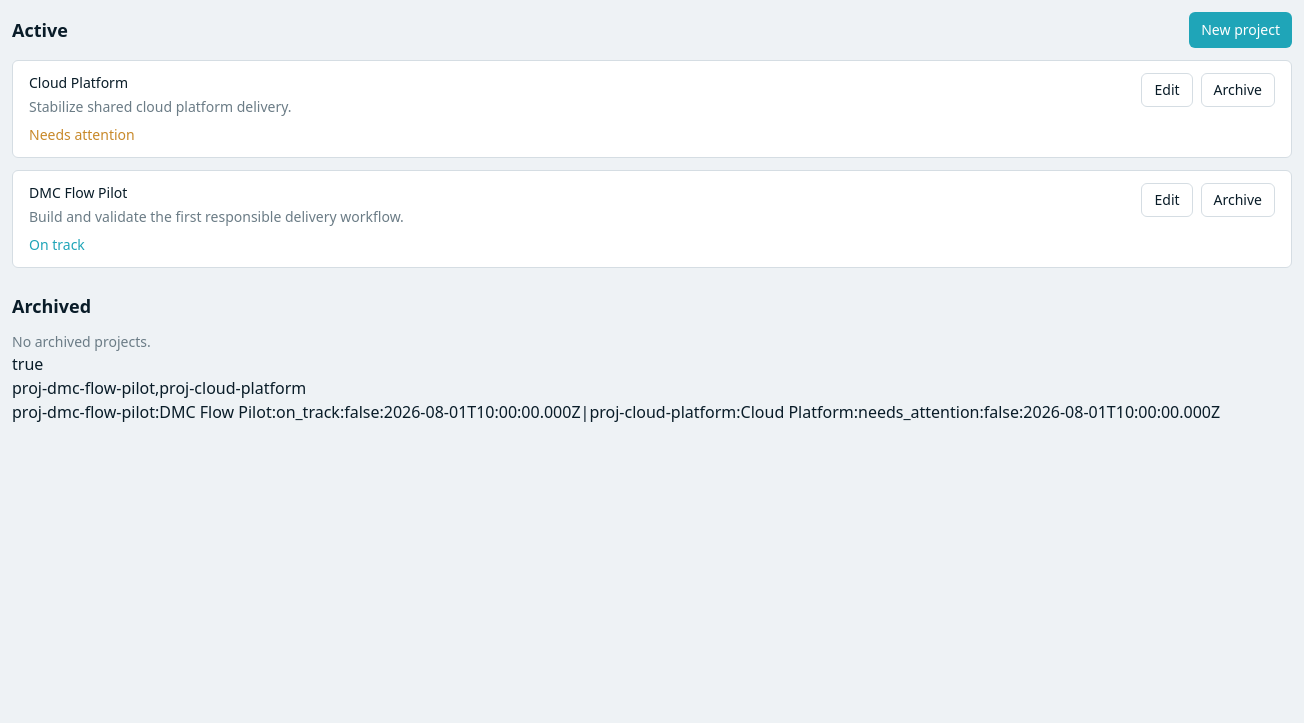
Test: ProjectsView › shows validation when create name is empty
Expected: the text with test id "hydrated" reads "true", [12,353,43,375]
Click the button "New project" at (1241, 30), box [1189,12,1292,48]
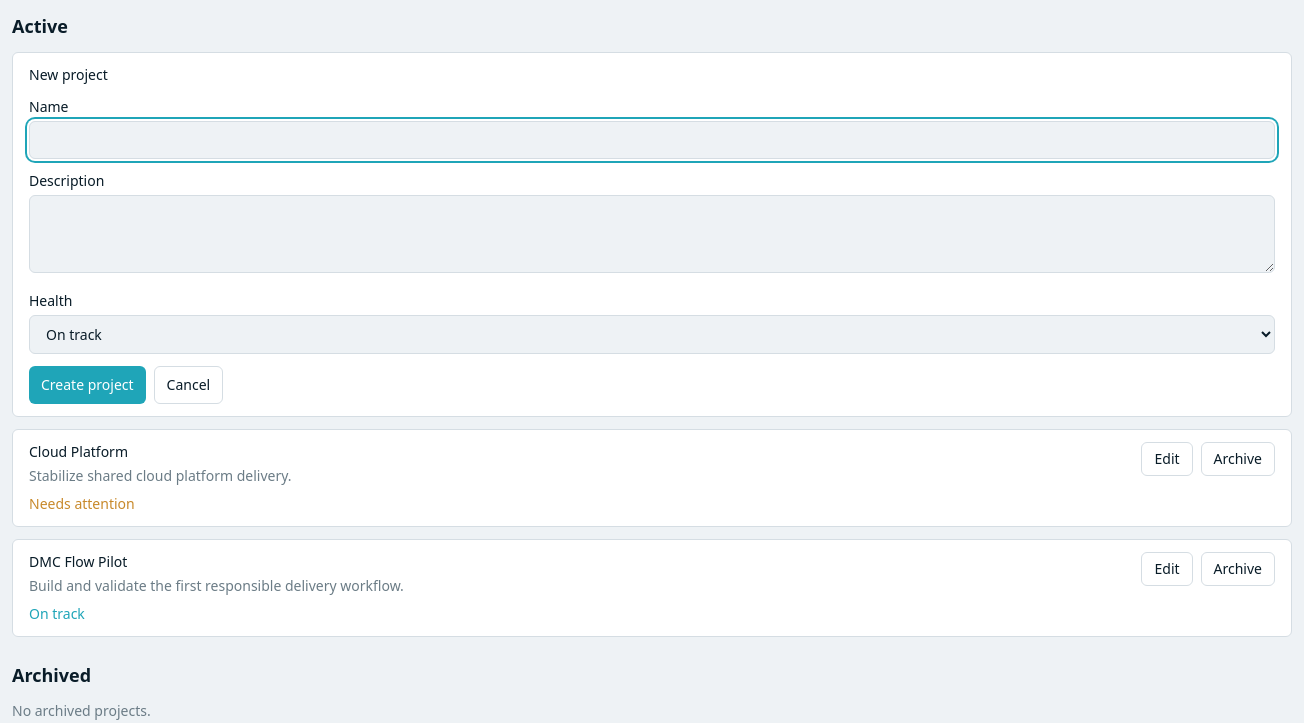
Click the button "Create project" at (87, 385), box [29,366,146,404]
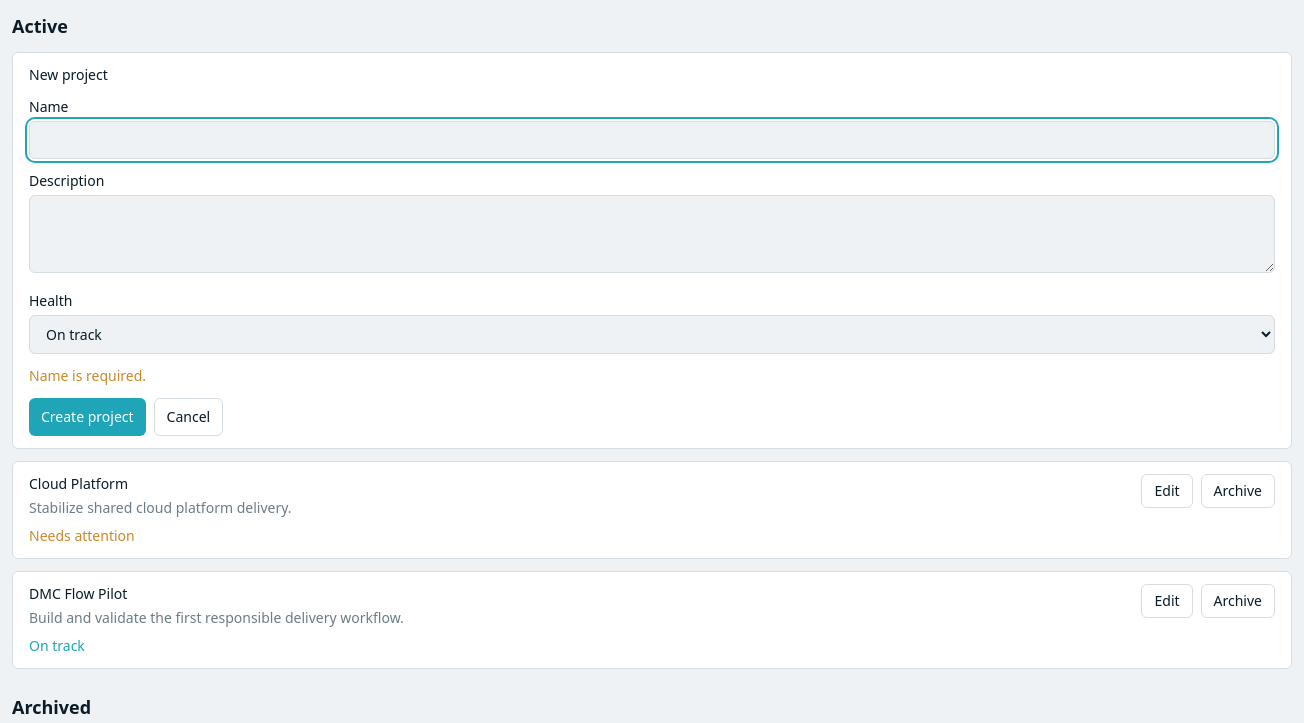
Expected: the message reads "Name is required.", [29,366,146,385]
